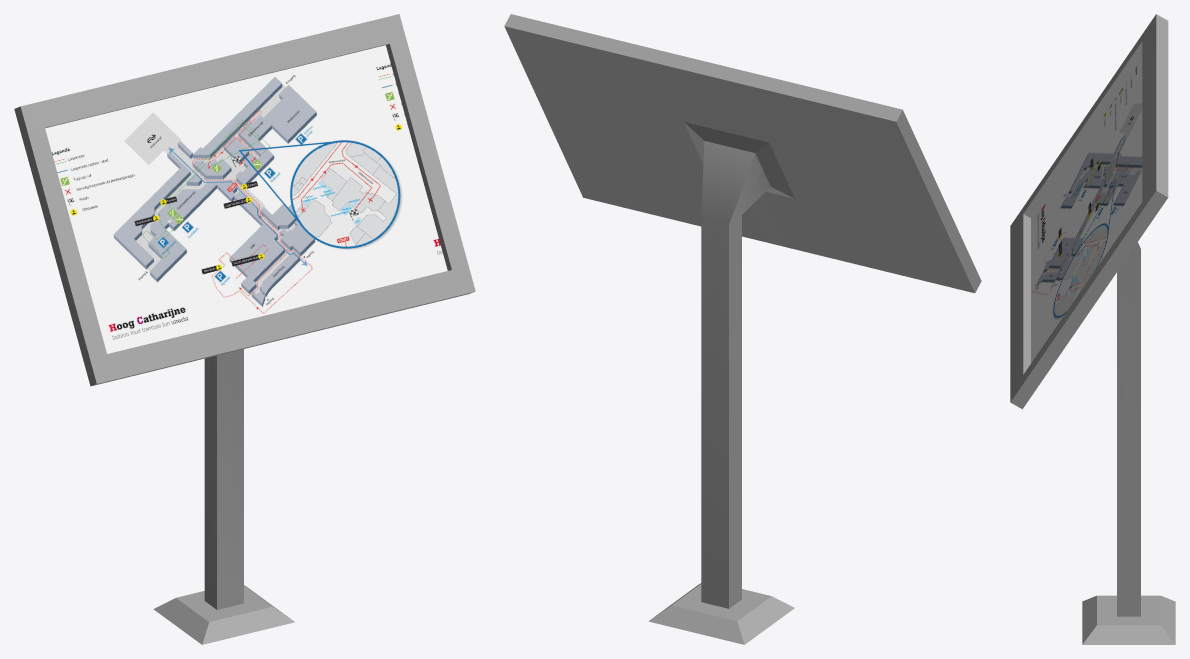
File: info screen.fbx
3 views of the same model, side by side, from view 1: azimuth 30°, elevation 25°; view 2: azimuth 150°, elevation 25°; view 3: azimuth 270°, elevation 25° (orthographic). The views are drawn at different scales.
Visible parts, largest first — view 1: info_screen; view 2: info_screen; view 3: info_screen.
Part boxes in pixels (<box>): info_screen: <box>14,14,475,644</box>; info_screen: <box>504,14,981,644</box>; info_screen: <box>1010,14,1175,644</box>.
Size of the model in its own units: 2.2 by 3.02 by 0.8671.
2 materials, 1 textured.
